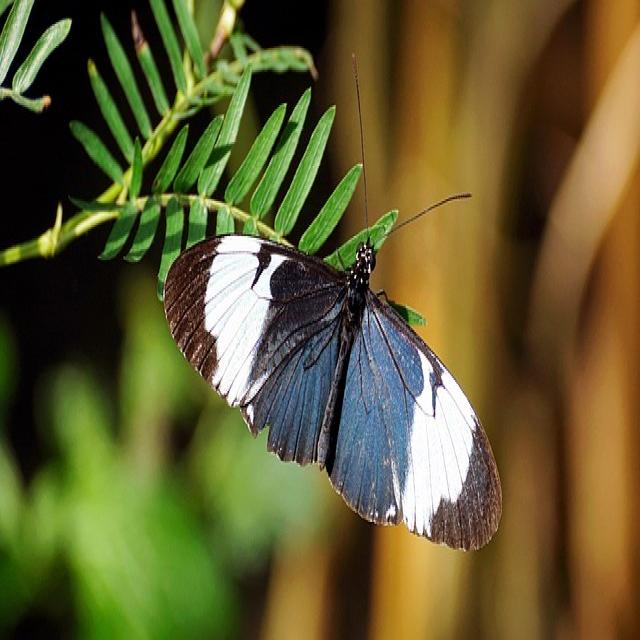butterfly: (159, 210, 504, 553)
